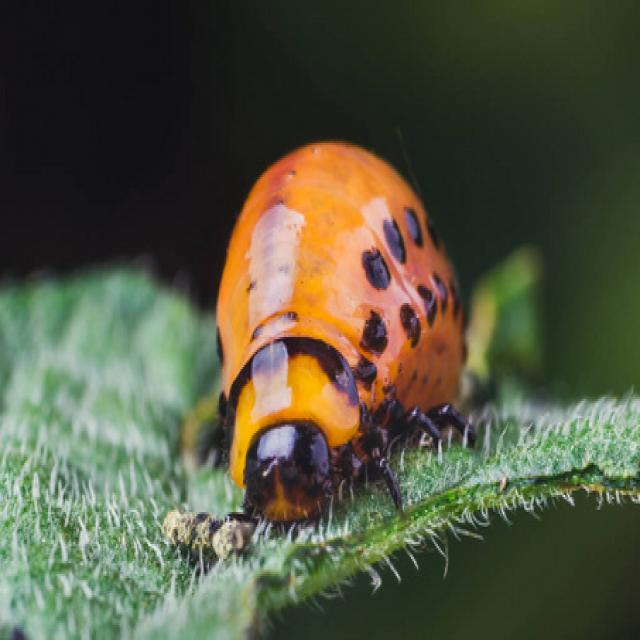ShuCaiHuaBanChong-Larva-: (179, 119, 475, 514)
